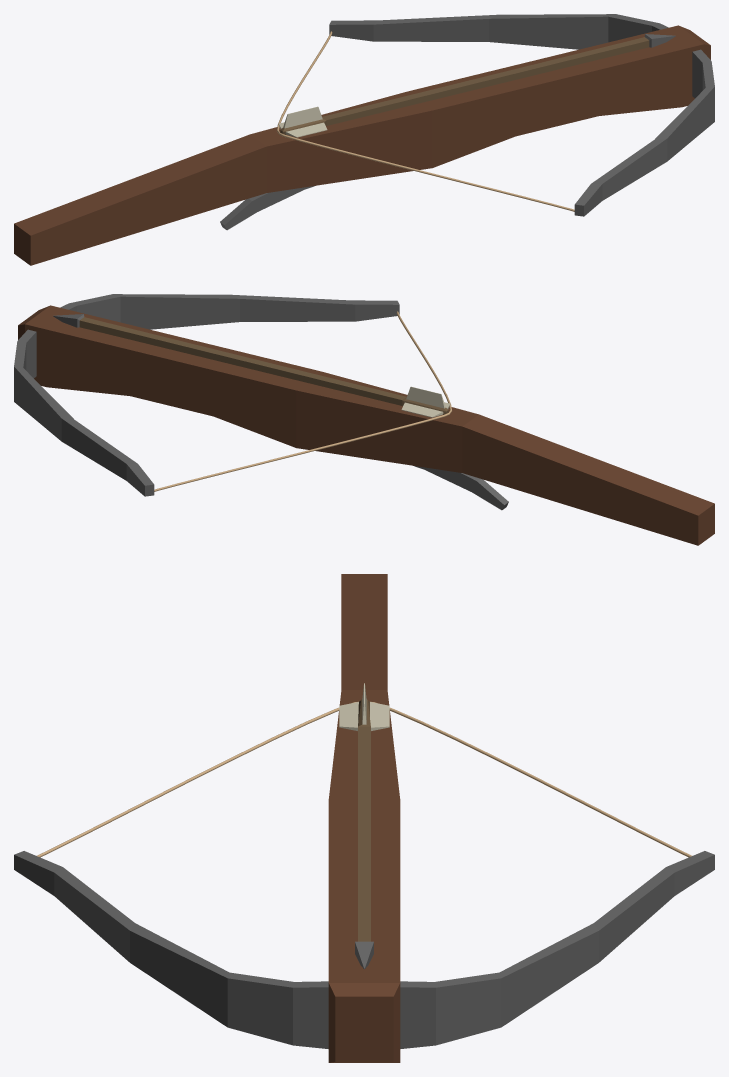
The model's file is MageHunter - Crossbow.fbx.
The picture shows the model from 3 angles, top to bottom: view 1: azimuth 30°, elevation 25°; view 2: azimuth 150°, elevation 25°; view 3: azimuth 270°, elevation 25°; orthographic projection. The views are drawn at different scales.
Parts seen in each view (by area): view 1: Cube, Cube.001, Cube.003, BézierCurve, Cube.002; view 2: Cube, Cube.001, Cube.003, BézierCurve, Cube.002; view 3: Cube.001, Cube, Cube.003, BézierCurve.
Part boxes in pixels (x1=…): Cube: x1=14, y1=25, x2=710, y2=265; Cube.001: x1=329, y1=14, x2=714, y2=216; Cube.003: x1=278, y1=34, x2=675, y2=137; BézierCurve: x1=277, y1=31, x2=574, y2=211; Cube.002: x1=220, y1=185, x2=315, y2=230; Cube: x1=18, y1=305, x2=714, y2=545; Cube.001: x1=14, y1=294, x2=399, y2=496; Cube.003: x1=53, y1=314, x2=450, y2=417; BézierCurve: x1=154, y1=311, x2=451, y2=491; Cube.002: x1=413, y1=465, x2=508, y2=510; Cube.001: x1=14, y1=851, x2=714, y2=1048; Cube: x1=328, y1=574, x2=400, y2=1062; Cube.003: x1=339, y1=683, x2=389, y2=969; BézierCurve: x1=37, y1=701, x2=691, y2=857.
Size of the model in its own units: 526 by 73.58 by 340.
